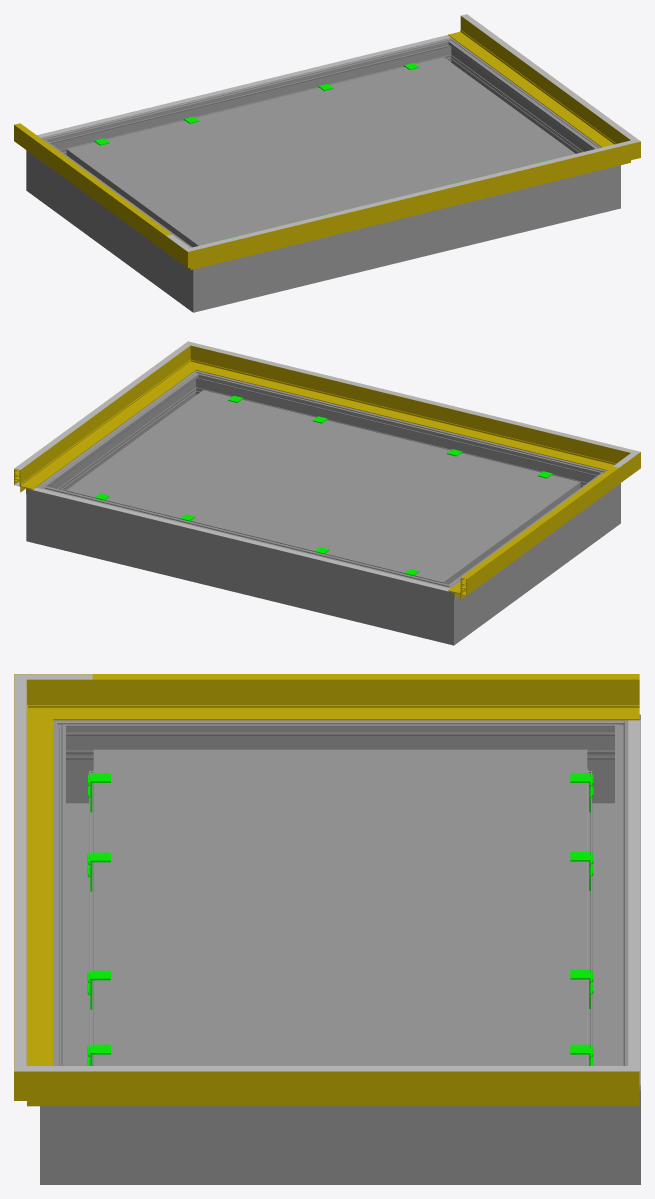
3 views of the same model, one above another, from view 1: azimuth 30°, elevation 25°; view 2: azimuth 150°, elevation 25°; view 3: azimuth 270°, elevation 25° (orthographic). The views are drawn at different scales.
Parts seen in each view (by area): view 1: 3DGeom-298, 3DGeom-20, 3DGeom-88, 3DGeom-30, 3DGeom-293, 3DGeom-284, 3DGeom-28, 3DGeom-90, 3DGeom-288, 3DGeom-13, 3DGeom-82, 3DGeom-6 (+11 smaller); view 2: 3DGeom-298, 3DGeom-30, 3DGeom-88, 3DGeom-293, 3DGeom-20, 3DGeom-284, 3DGeom-28, 3DGeom-90, 3DGeom-288, 3DGeom-32, 3DGeom-13, 3DGeom-82 (+11 smaller); view 3: 3DGeom-298, 3DGeom-13, 3DGeom-82, 3DGeom-293, 3DGeom-90, 3DGeom-284, 3DGeom-28, 3DGeom-30, 3DGeom-20, 3DGeom-88, 3DGeom-288, 3DGeom-22 (+14 smaller).
Boxes of the visible parts, <box> form: 3DGeom-298: <box>134,73,511,229</box>; 3DGeom-20: <box>231,174,583,303</box>; 3DGeom-88: <box>222,151,603,262</box>; 3DGeom-30: <box>67,45,423,148</box>; 3DGeom-293: <box>381,61,560,168</box>; 3DGeom-284: <box>85,134,260,241</box>; 3DGeom-28: <box>48,150,183,296</box>; 3DGeom-90: <box>448,16,613,146</box>; 3DGeom-288: <box>66,145,215,247</box>; 3DGeom-13: <box>463,51,592,153</box>; 3DGeom-82: <box>14,125,169,251</box>; 3DGeom-6: <box>171,241,230,312</box>; 3DGeom-298: <box>129,405,513,566</box>; 3DGeom-30: <box>64,492,422,636</box>; 3DGeom-88: <box>214,353,599,466</box>; 3DGeom-293: <box>80,393,265,506</box>; 3DGeom-20: <box>224,378,579,481</box>; 3DGeom-284: <box>380,467,561,578</box>; 3DGeom-28: <box>464,483,599,629</box>; 3DGeom-90: <box>14,359,184,493</box>; 3DGeom-288: <box>426,478,580,584</box>; 3DGeom-32: <box>416,574,475,645</box>; 3DGeom-13: <box>54,384,183,490</box>; 3DGeom-82: <box>448,468,619,599</box>; 3DGeom-298: <box>93,808,587,1024</box>; 3DGeom-13: <box>118,1106,562,1184</box>; 3DGeom-82: <box>92,674,639,720</box>; 3DGeom-293: <box>93,1024,587,1065</box>; 3DGeom-90: <box>92,1071,639,1106</box>; 3DGeom-284: <box>93,765,587,804</box>; 3DGeom-28: <box>118,720,562,749</box>; 3DGeom-30: <box>587,748,640,1065</box>; 3DGeom-20: <box>53,748,93,1065</box>; 3DGeom-88: <box>14,707,53,1065</box>; 3DGeom-288: <box>93,749,587,764</box>; 3DGeom-22: <box>562,1057,640,1184</box>.
Bounding box in the file's own units: 1.83 × 0.2669 × 1.22.
